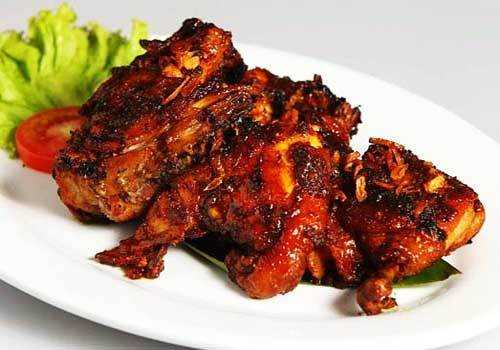Ayam: (343, 124, 494, 319)
